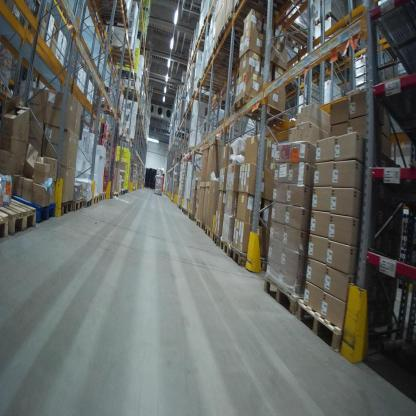pallet: (296, 292, 399, 355), (231, 91, 294, 126), (263, 271, 304, 317), (6, 188, 58, 222), (1, 193, 37, 237), (276, 16, 318, 51), (233, 0, 283, 23), (229, 244, 271, 268), (212, 40, 249, 65), (223, 12, 258, 37), (217, 26, 250, 51), (203, 60, 235, 85), (208, 52, 244, 72), (196, 74, 228, 96), (320, 9, 349, 32), (96, 0, 129, 18), (200, 70, 232, 88), (93, 99, 123, 118), (106, 45, 134, 61), (98, 16, 132, 29), (110, 56, 135, 70), (0, 204, 9, 242), (116, 68, 138, 82), (219, 235, 231, 258), (211, 228, 222, 248), (61, 198, 74, 213), (121, 87, 139, 96), (75, 195, 85, 211), (83, 196, 93, 209), (203, 12, 213, 24), (92, 191, 100, 206), (204, 223, 213, 236), (107, 191, 115, 201), (101, 190, 107, 203), (188, 211, 194, 224), (98, 193, 103, 207), (202, 219, 207, 232), (196, 219, 202, 228), (194, 214, 198, 224)
